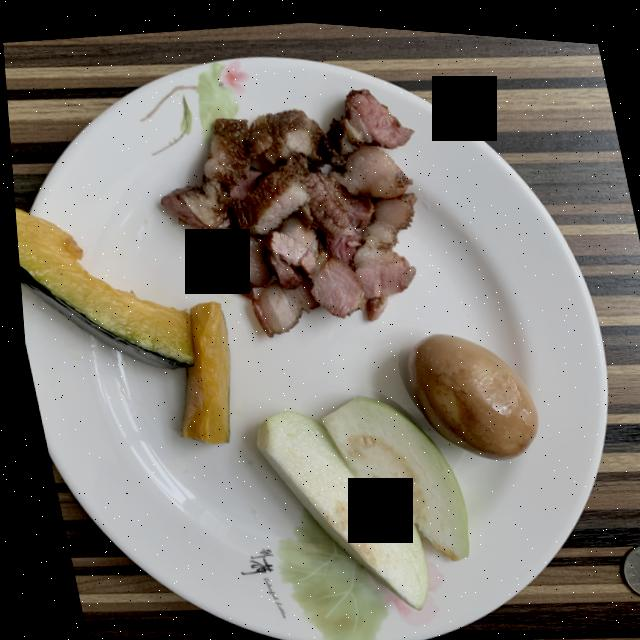coin: (615, 535, 640, 586)
grilled pork: (158, 83, 413, 332)
guava -sliced-: (250, 390, 461, 603)
pumpkin: (12, 208, 224, 440)
soy egg: (403, 327, 532, 451)
